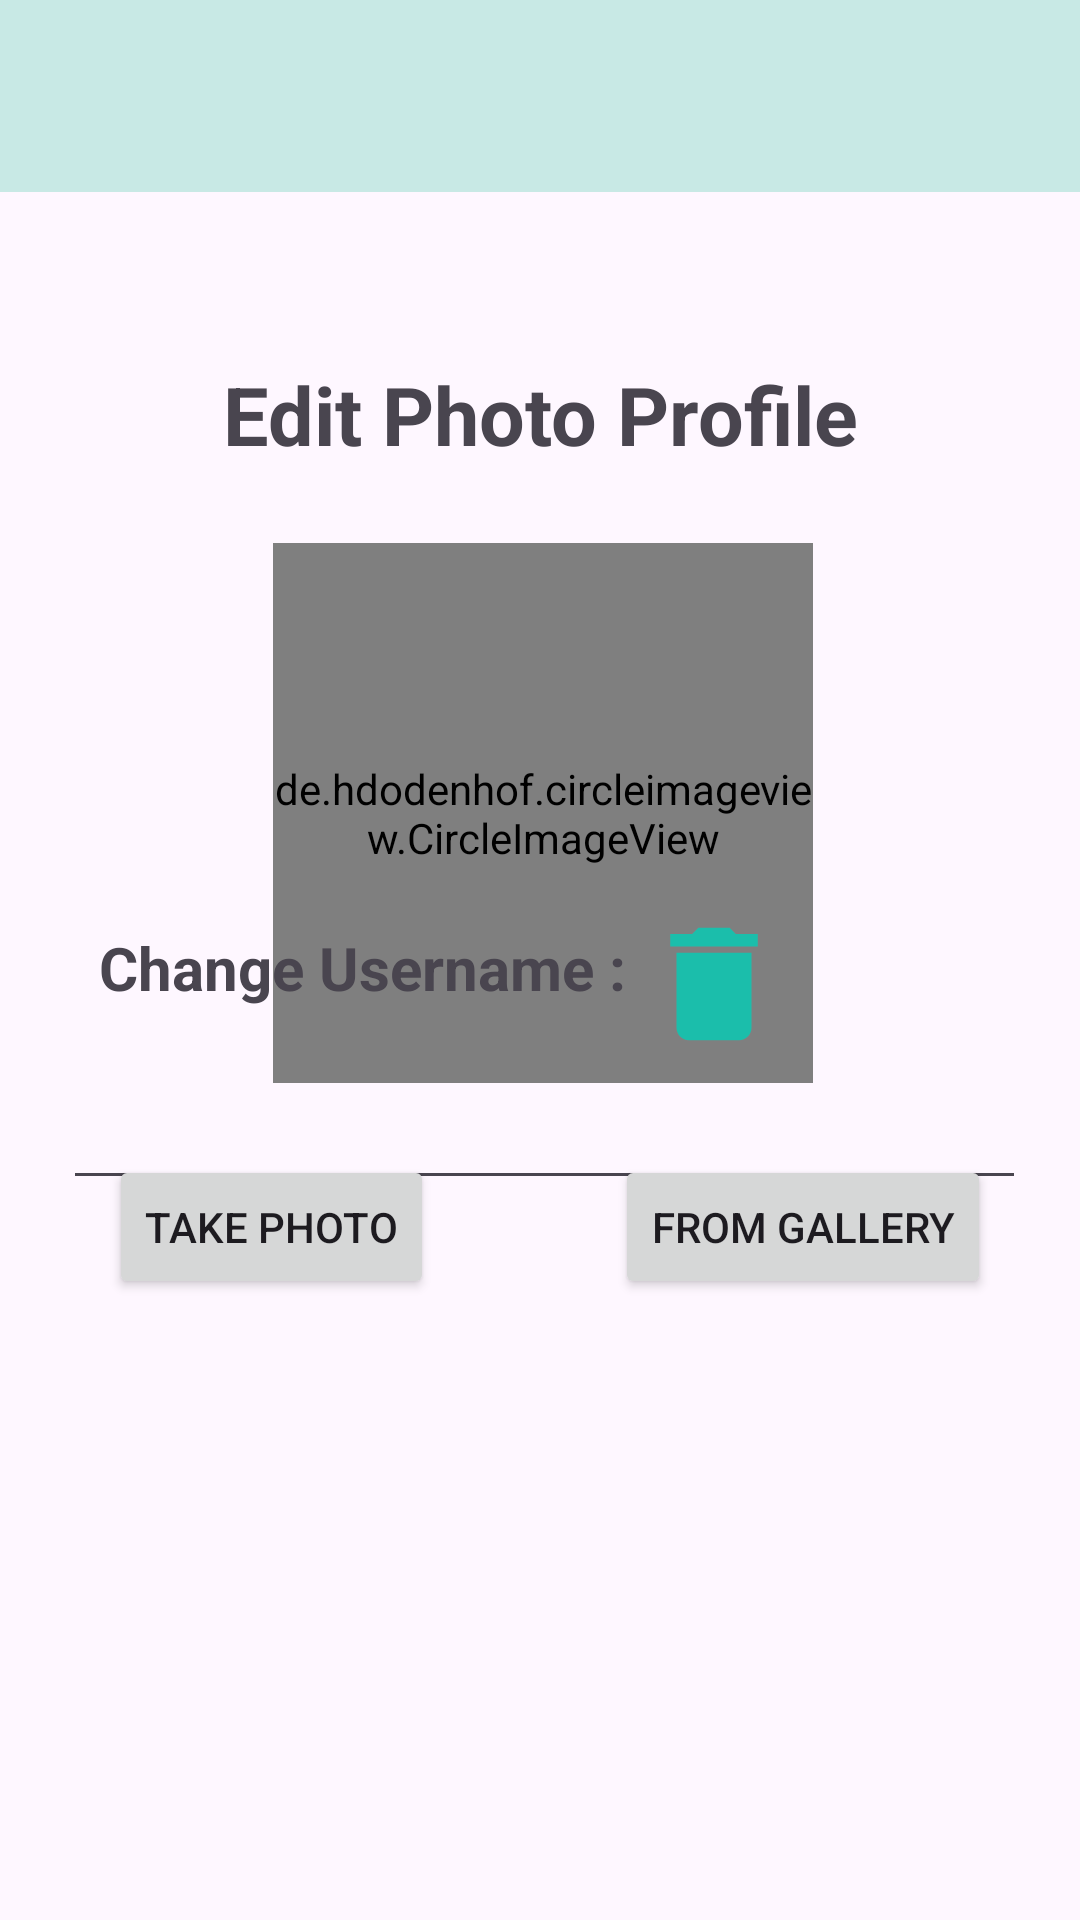

Where icons sit on this 1080 x 1920 app screen, as [x1=x1, y1=y1, x2=x2, y2=y2]:
delete: [x1=670, y1=927, x2=758, y2=1041]
